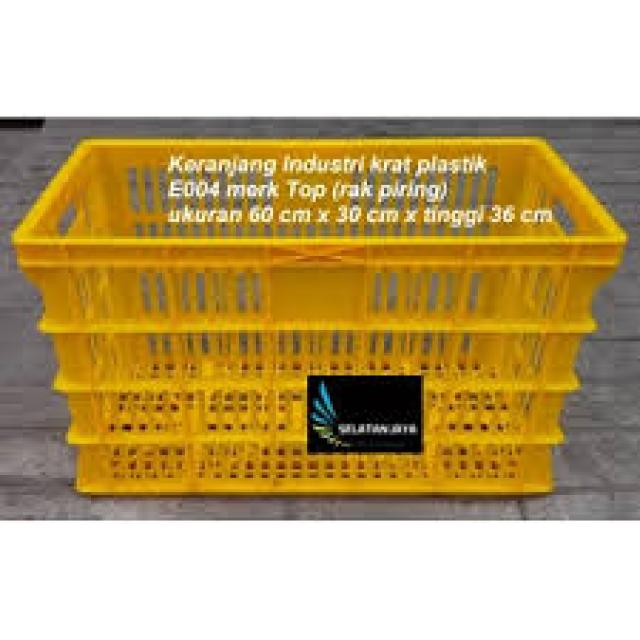basket: (15, 136, 629, 498)
